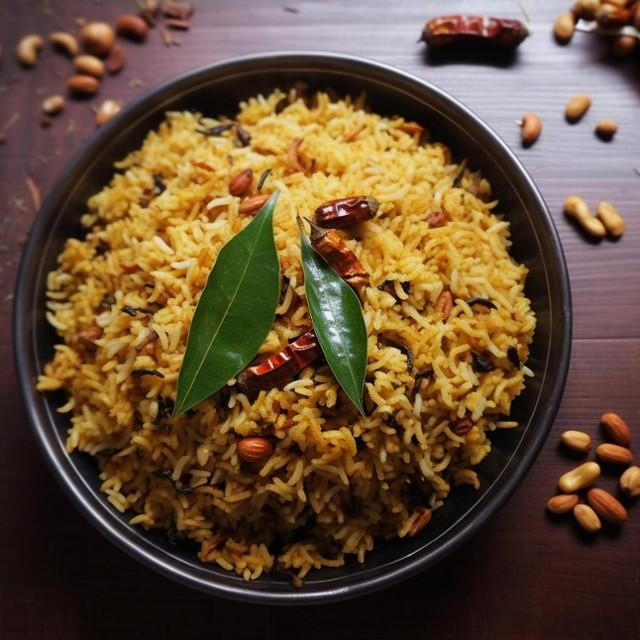puliyogare: (26, 60, 557, 602)
